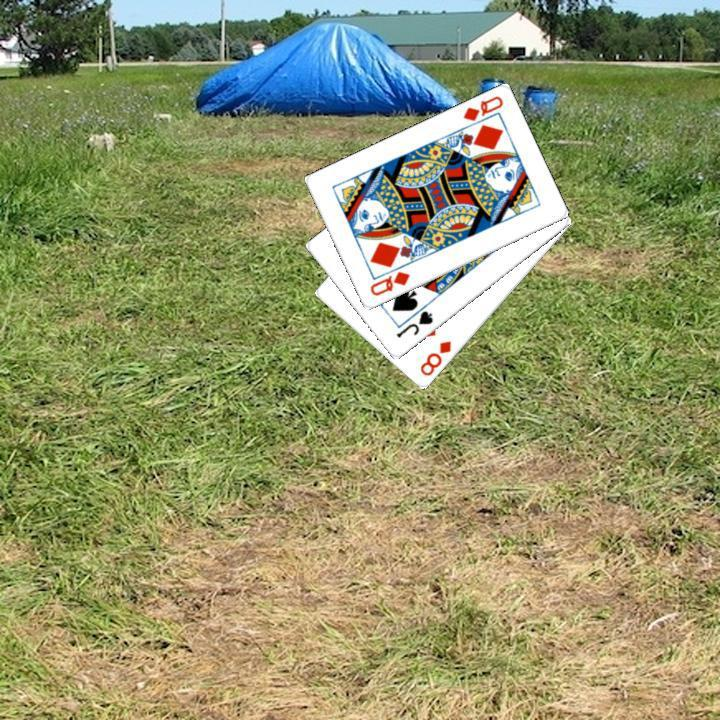8: (416, 336, 453, 379)
J: (392, 306, 435, 340)
Q: (458, 92, 505, 124), (365, 267, 412, 298)
